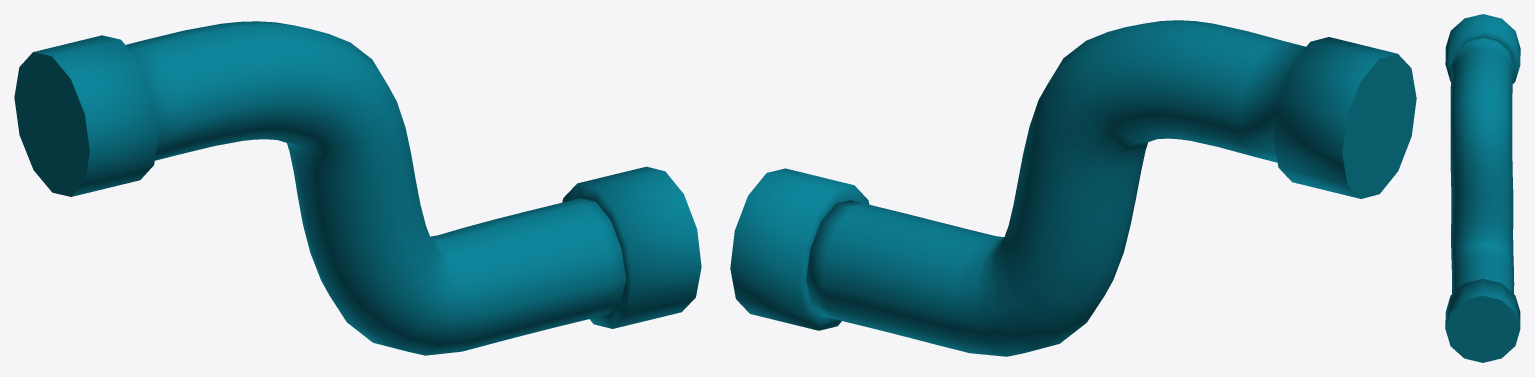
Rendered from _ipe03_low.fbx.
3 views of the same model, side by side, from view 1: azimuth 30°, elevation 25°; view 2: azimuth 150°, elevation 25°; view 3: azimuth 270°, elevation 25° (orthographic). The views are drawn at different scales.
Visible parts, largest first — view 1: Pipe03_low; view 2: Pipe03_low; view 3: Pipe03_low.
Part boxes in pixels (x1,y1,x2,y2): Pipe03_low: (14, 21, 701, 355); Pipe03_low: (730, 20, 1416, 356); Pipe03_low: (1445, 14, 1520, 362).
Bounding box in the file's own units: 29.1 × 18.14 × 6.17.
